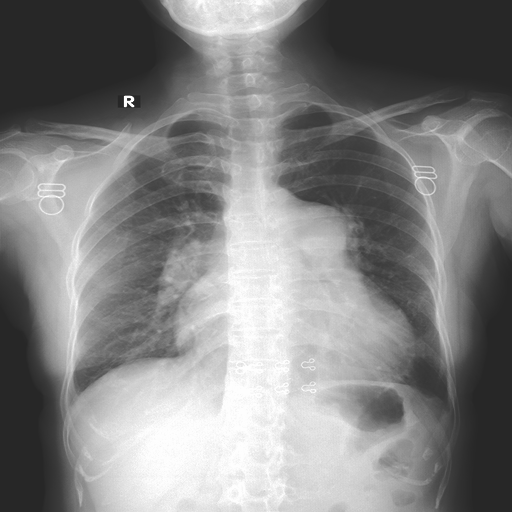Nodule/Mass: (171, 285, 413, 386)
Other lesion: (283, 199, 346, 266)
Pleural thickening: (283, 199, 346, 266)
Pulmonary fibrosis: (280, 202, 348, 260)
